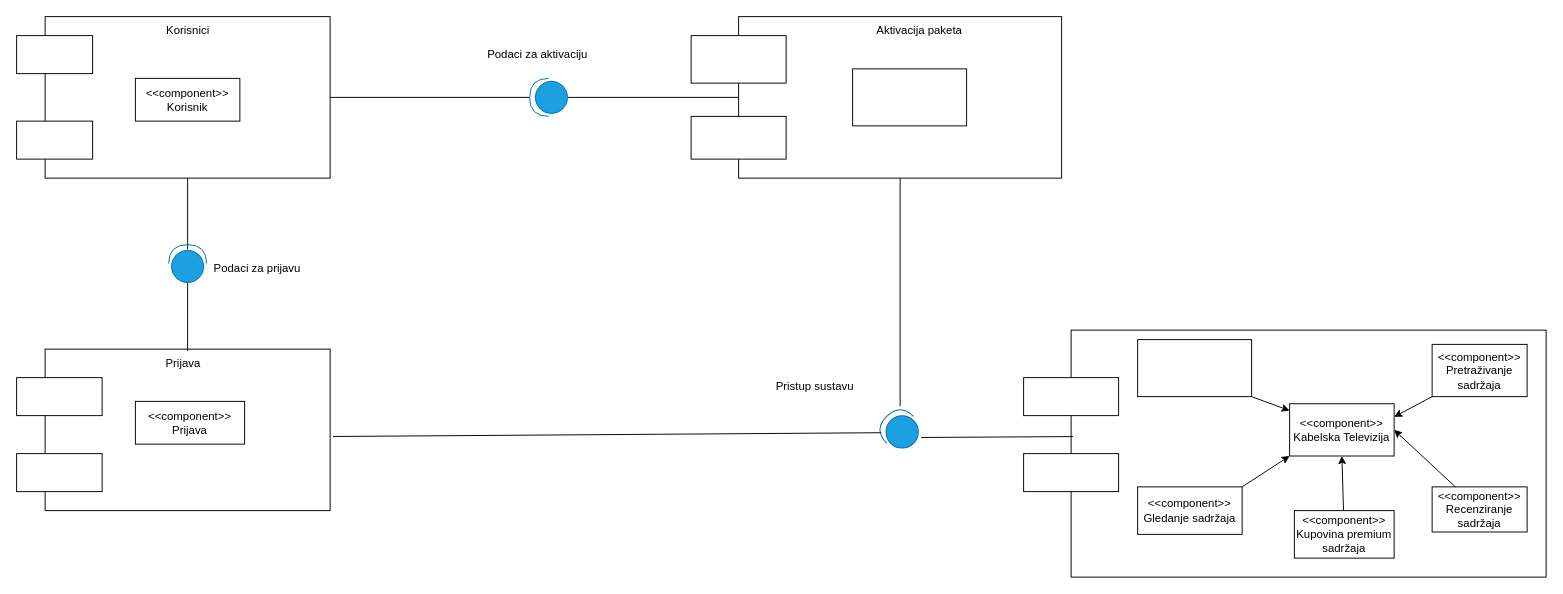
This 1563x594 diagram has some shape labels left out. Here are the shapes that lost their labels. From the top down, the centre of each, then its label:
(909,97): <<component>> Aktivacija
(1194,368): <<component>> Pretraživanje kanala
